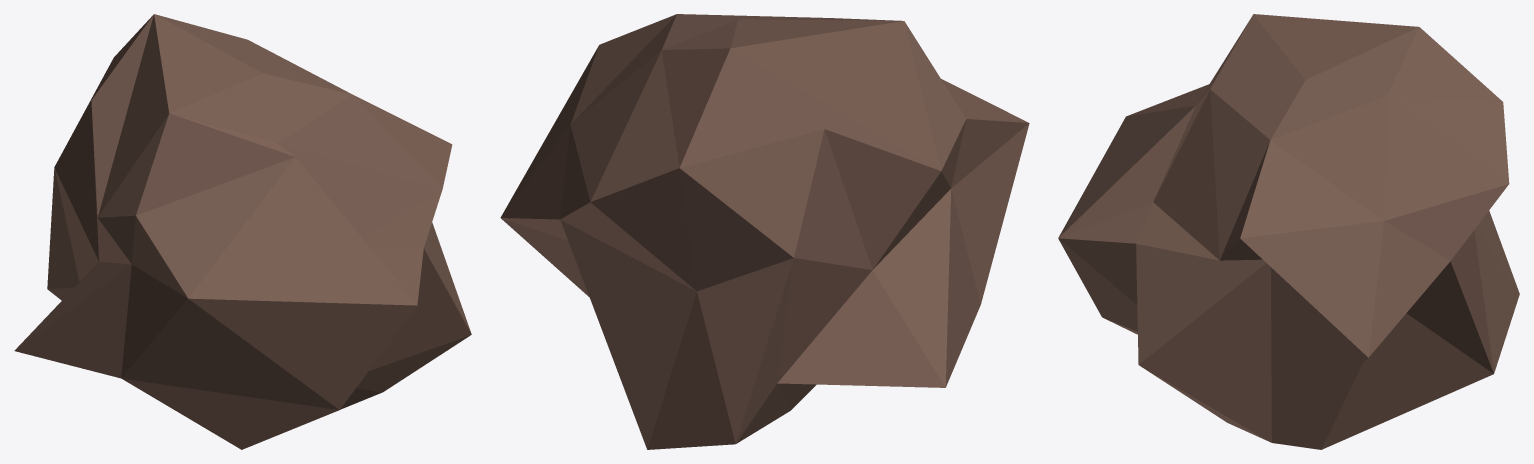
The model's file is Asteroid.glb.
The picture shows the model from 3 angles, left to right: view 1: azimuth 30°, elevation 25°; view 2: azimuth 150°, elevation 25°; view 3: azimuth 270°, elevation 25°; orthographic projection. The views are drawn at different scales.
Parts seen in each view (by area): view 1: Icosphere; view 2: Icosphere; view 3: Icosphere.
Part boxes in pixels (x1=…): Icosphere: x1=14, y1=14, x2=471, y2=449; Icosphere: x1=500, y1=14, x2=1029, y2=449; Icosphere: x1=1058, y1=14, x2=1519, y2=449.
Bounding box in the file's own units: 2.26 × 2.06 × 2.34.
1 material, 1 textured.
